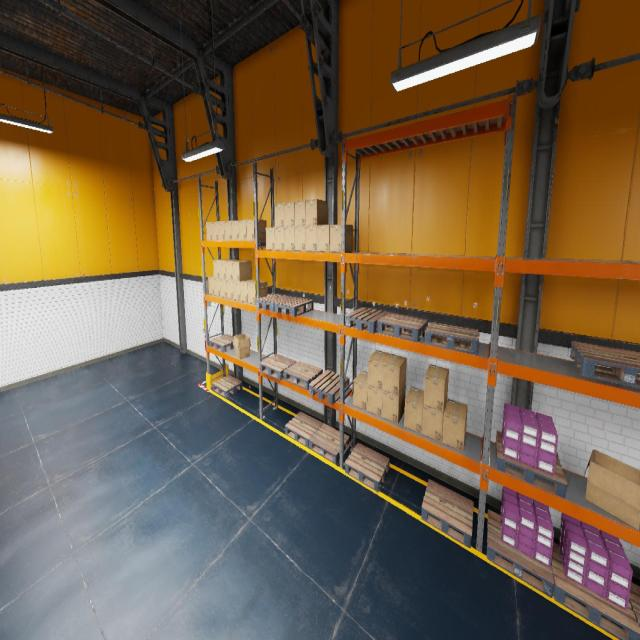box: (584, 449, 640, 530), (442, 399, 468, 451), (424, 364, 448, 412), (422, 400, 447, 442), (383, 354, 406, 396), (404, 387, 424, 434), (382, 385, 406, 424), (368, 350, 390, 390), (330, 224, 352, 252), (353, 371, 368, 411), (305, 199, 328, 225), (367, 385, 382, 417), (248, 280, 268, 304), (246, 219, 266, 241), (233, 334, 251, 358), (232, 260, 252, 281), (225, 260, 244, 280), (317, 224, 330, 252), (240, 280, 256, 302), (219, 260, 237, 279), (213, 259, 229, 278), (305, 226, 317, 251), (294, 200, 305, 226), (295, 226, 305, 250), (284, 202, 294, 226), (274, 203, 284, 227), (284, 226, 294, 250), (275, 227, 284, 250), (266, 227, 274, 249), (238, 220, 246, 240), (231, 220, 239, 240), (224, 220, 232, 240), (226, 280, 234, 299), (220, 278, 227, 298), (233, 281, 240, 300), (218, 221, 225, 240), (208, 276, 214, 295), (214, 278, 220, 296), (212, 222, 218, 240), (206, 222, 212, 240)
pallets: (550, 542, 640, 640), (487, 510, 554, 598), (496, 430, 567, 498), (421, 479, 474, 548), (570, 341, 640, 388), (345, 442, 389, 492), (425, 322, 479, 354), (309, 423, 349, 464), (377, 312, 428, 342), (285, 412, 323, 448), (309, 370, 349, 404), (346, 307, 390, 333), (284, 361, 322, 390), (260, 354, 296, 380), (274, 297, 314, 316), (212, 374, 242, 398), (256, 294, 293, 312), (628, 582, 640, 627), (209, 334, 234, 352)
